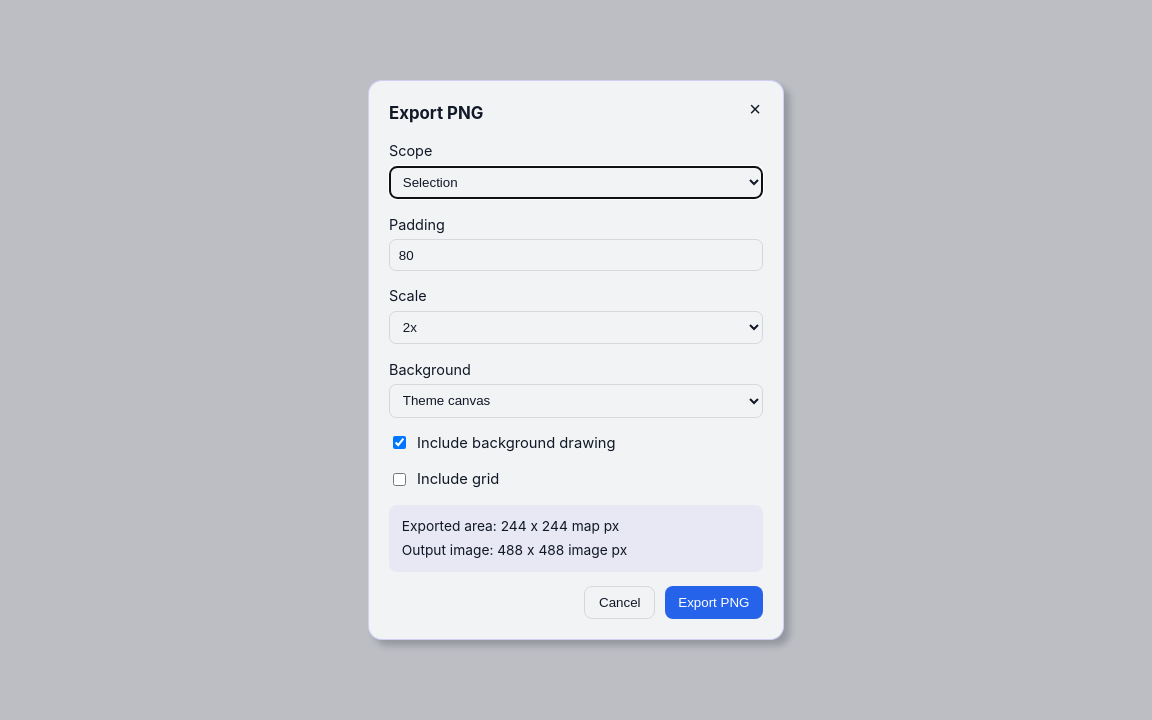
ExportPngDialog actions › preserves shared settings when switching scopes
Select "4x" in the dropdown labelled "Scale" at (576, 328), box [389,311,763,344]
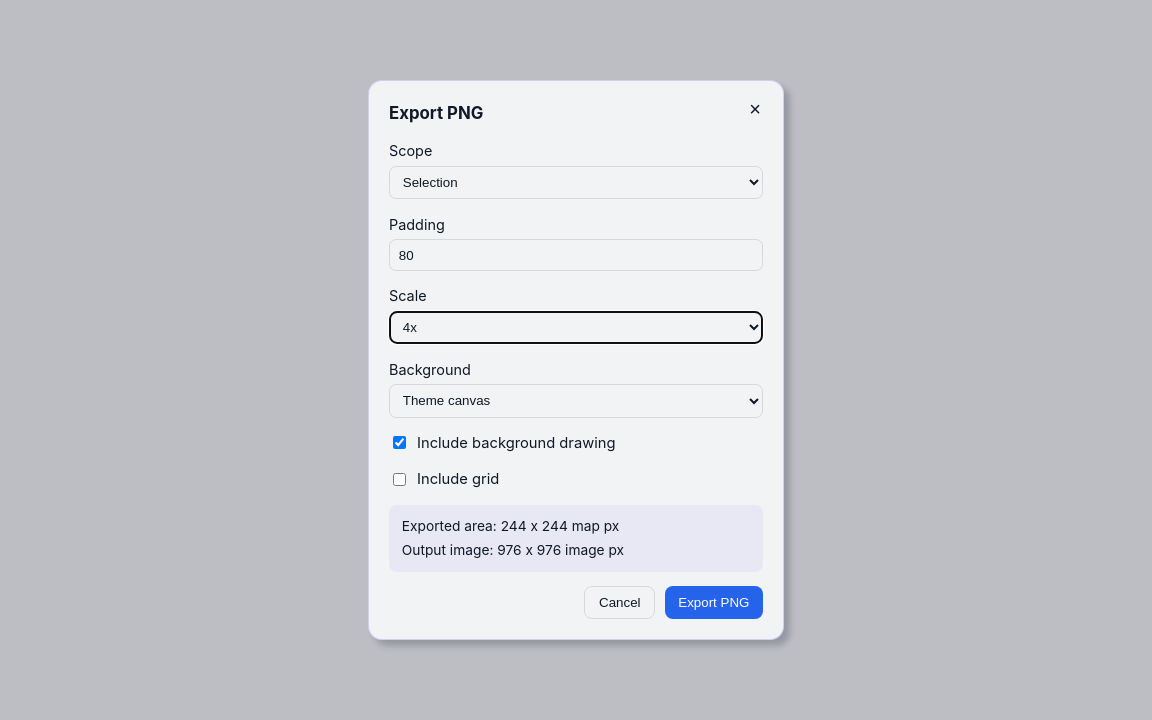
Select "Transparent" in the dropdown labelled "Background" at (576, 401), box [389,384,763,418]
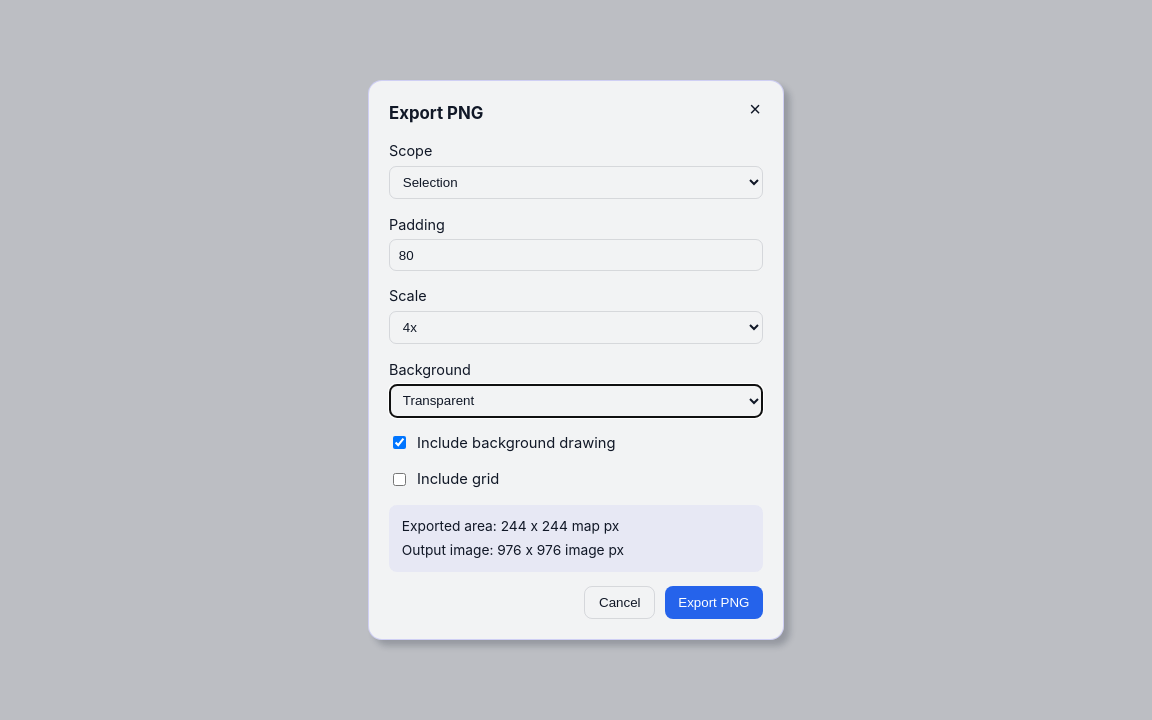
Click the checkbox labelled "Include background drawing" at (400, 443), box [393,436,406,450]
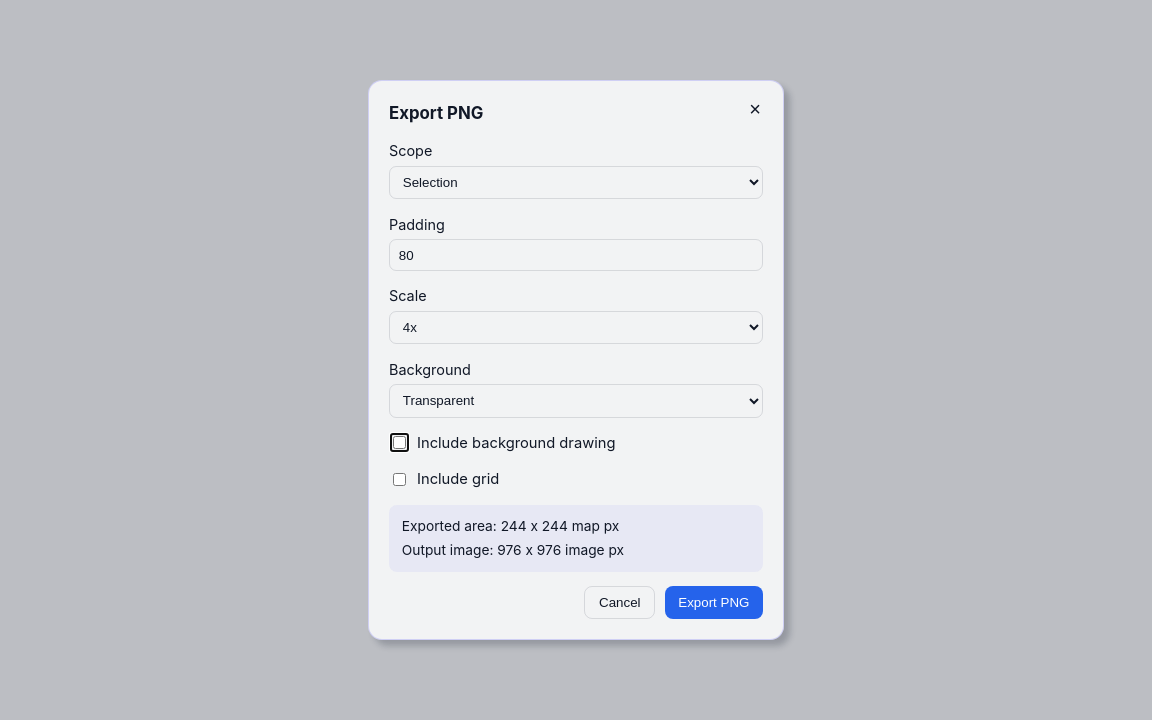
Click the checkbox labelled "Include grid" at (400, 480), box [393,473,406,486]
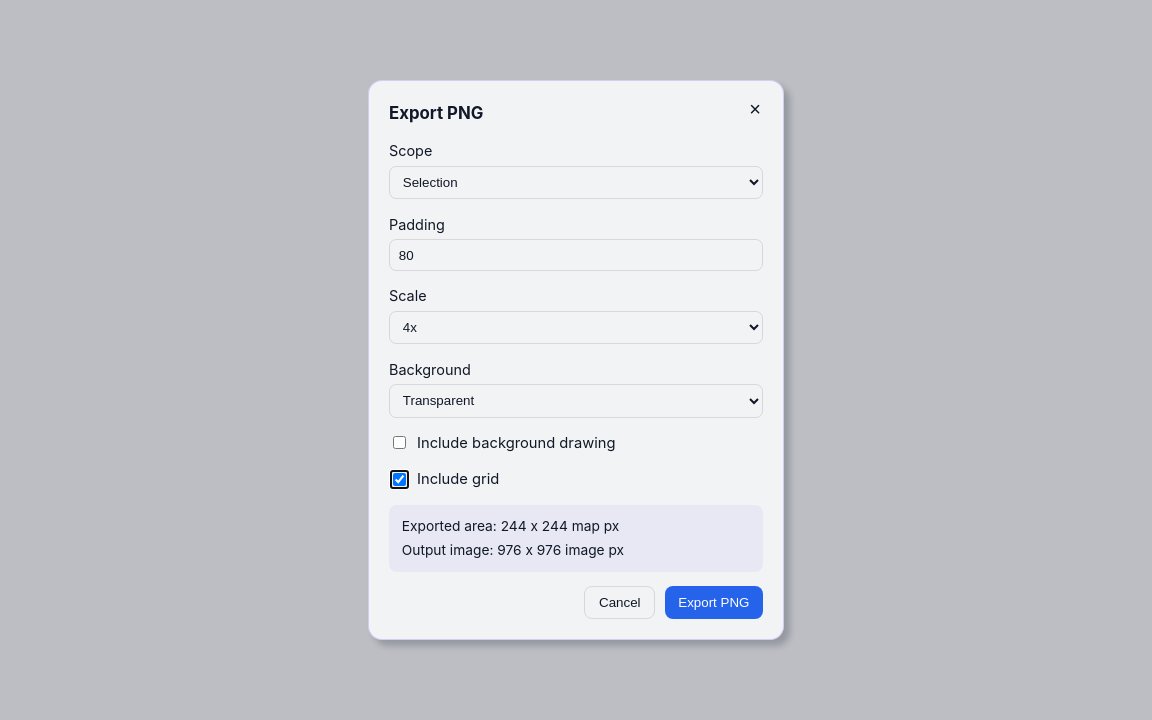
Select "Visible viewport" in the dropdown labelled "Scope" at (576, 183), box [389,166,763,200]
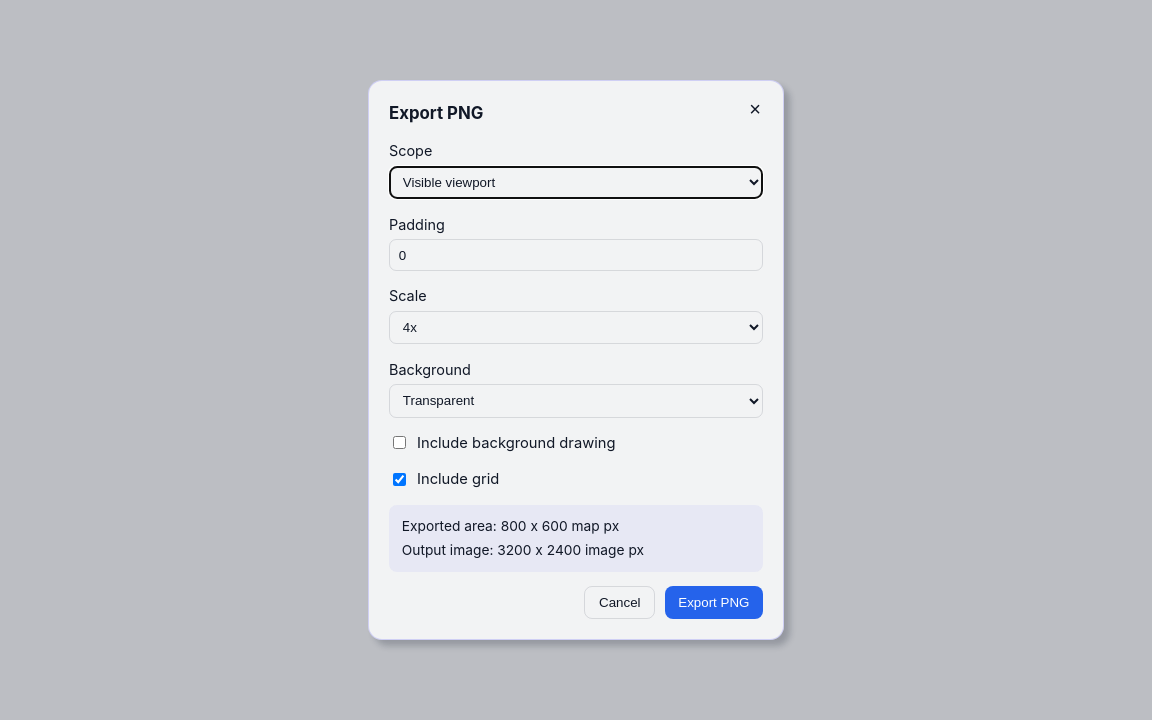
Check: the checkbox labelled "Include background drawing" is not checked, box [393,436,406,450]
Check: the checkbox labelled "Include grid" is checked, box [393,473,406,486]
Check: the number field labelled "Padding" holds "0", box [389,239,763,271]
